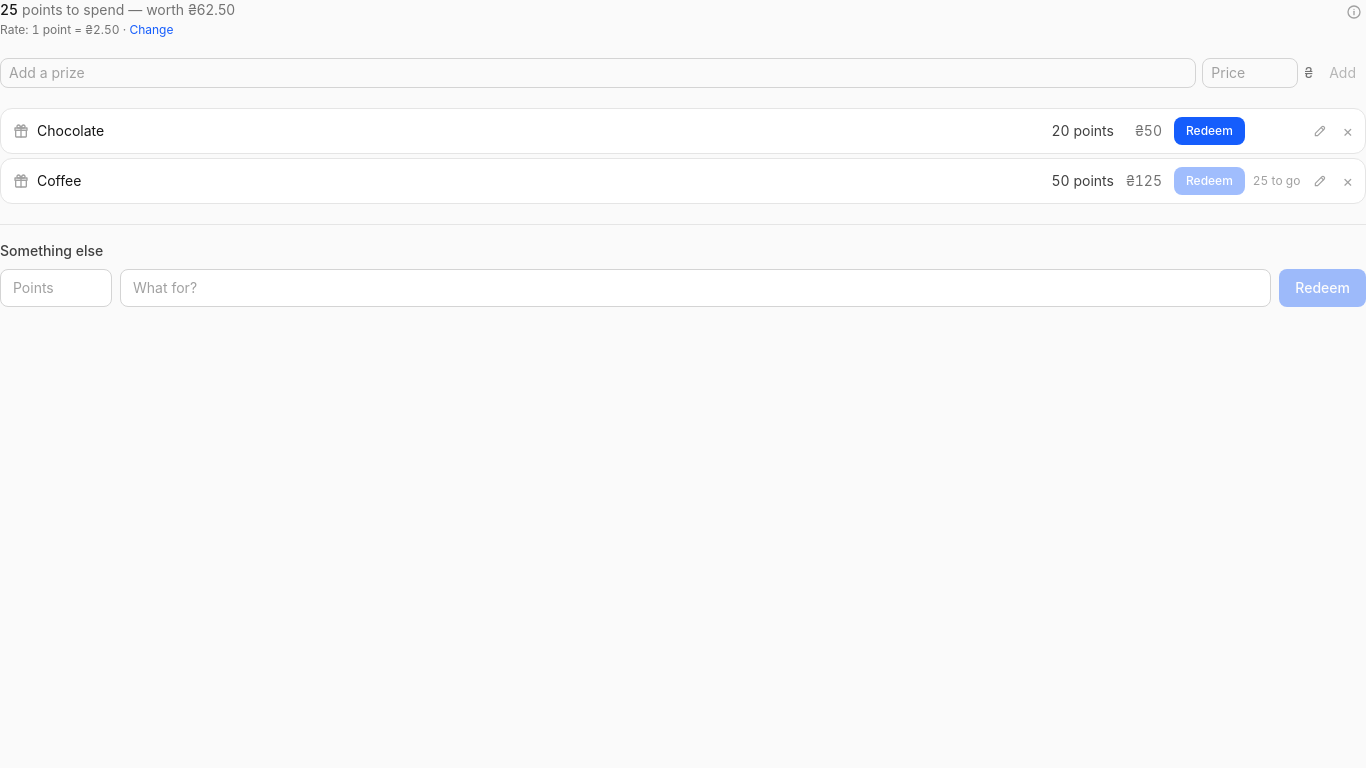
Test case: keeping a list (RWD-33, RWD-34) › asks in a sheet before taking one off, the history keeping what it was redeemed for (RWD-34)
Click the button named "Delete the prize \"Chocolate\"".
click(1348, 131)  # box [1336,119,1359,143]
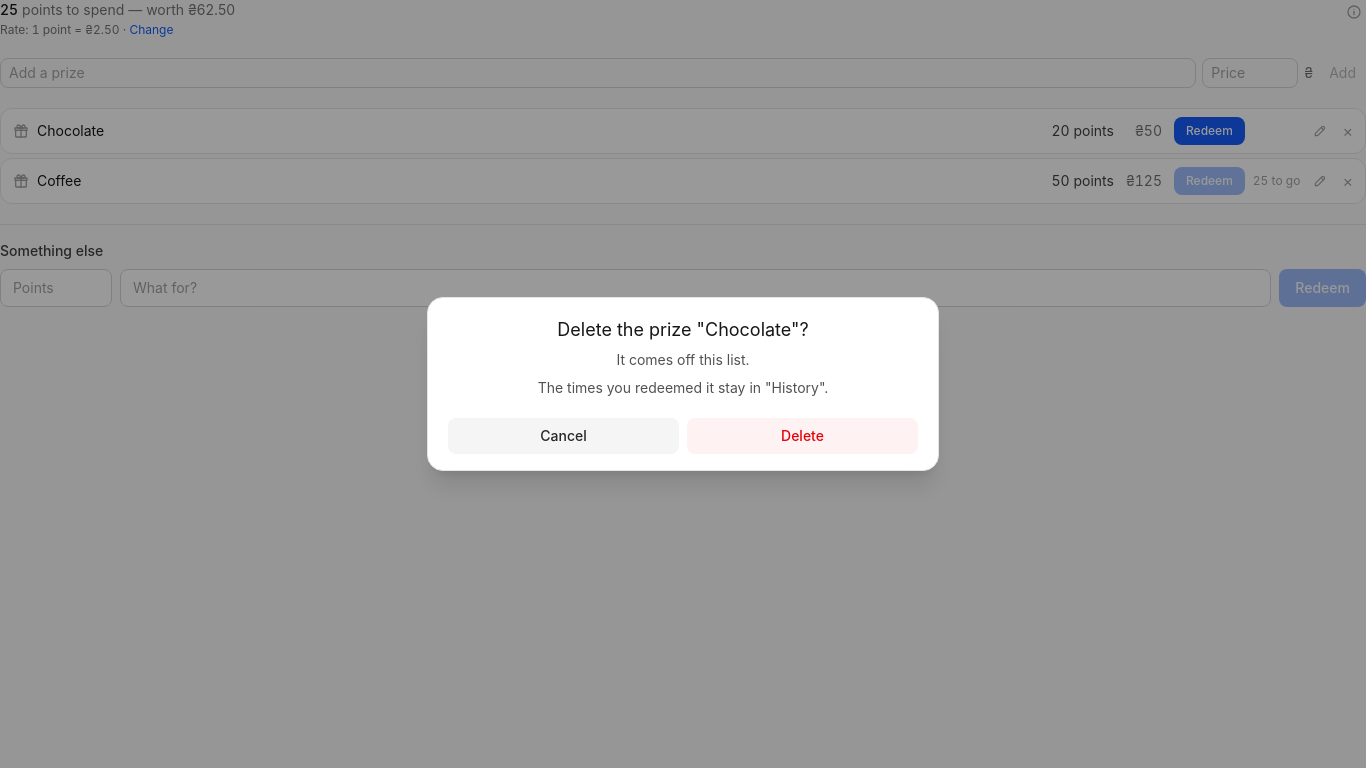
Click the button "Delete".
click(802, 436)  # box [687,418,918,454]
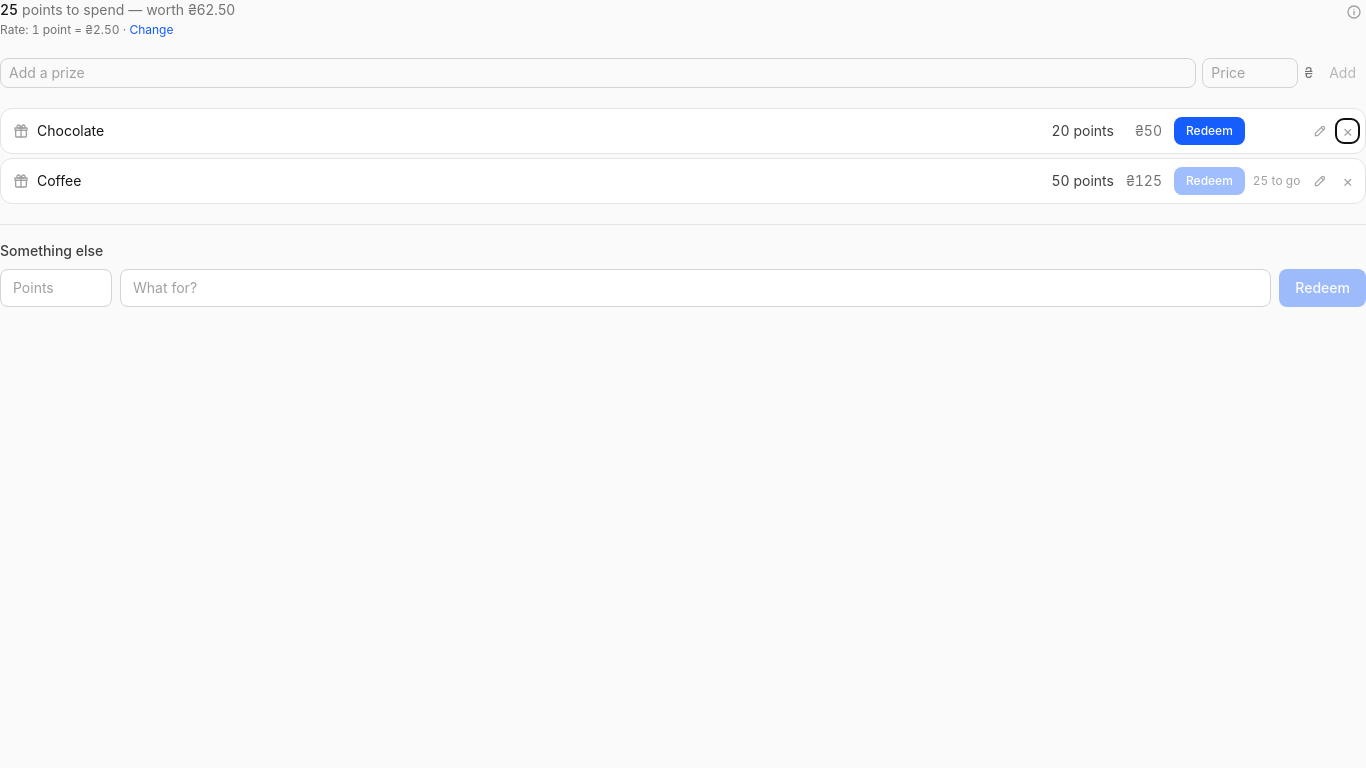
Expected: the dialog is gone
